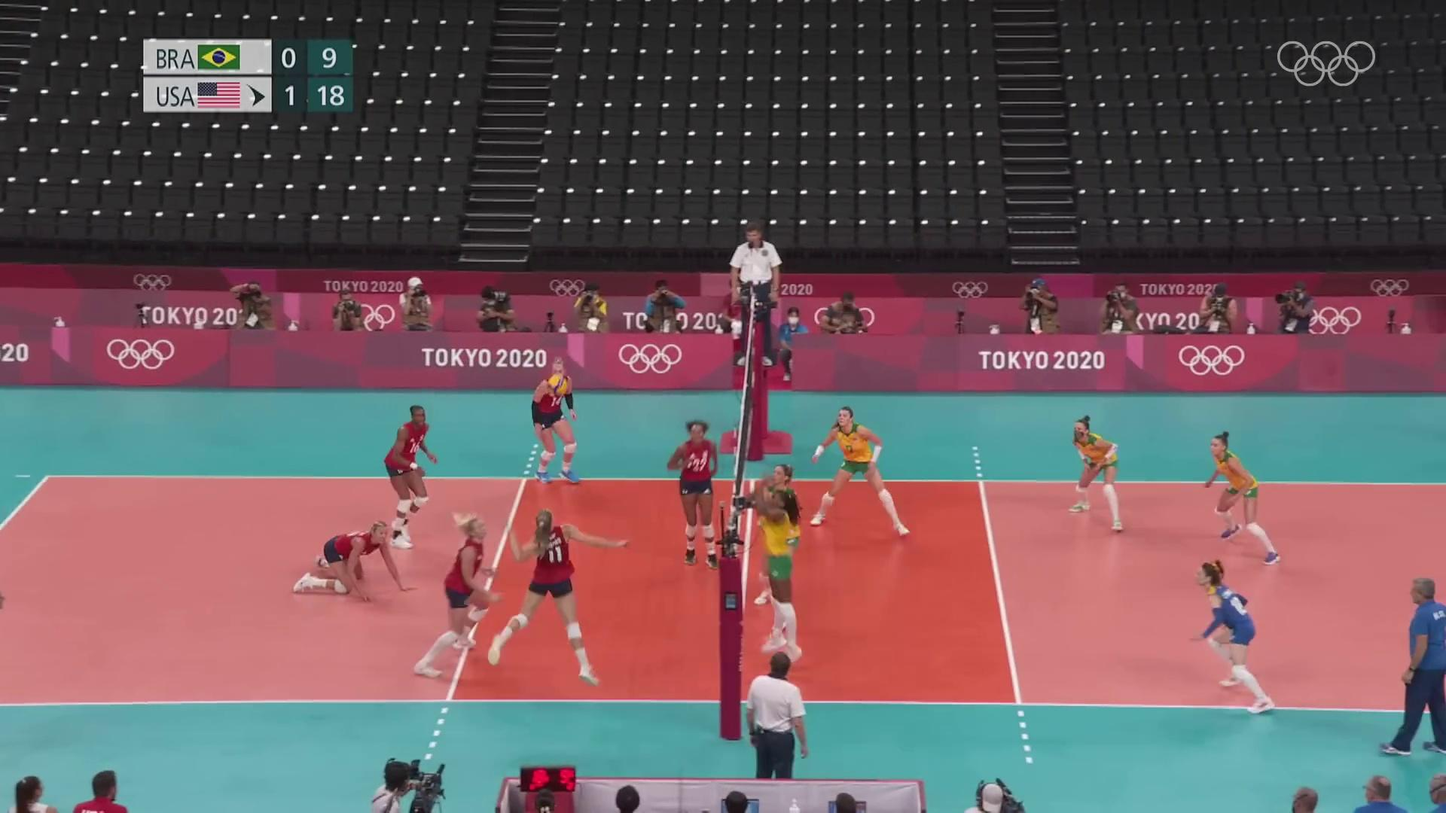player: (490, 509, 626, 683), (415, 519, 505, 678), (1189, 560, 1278, 714), (808, 406, 909, 536), (1199, 432, 1282, 565), (662, 421, 729, 565), (293, 521, 409, 598), (755, 480, 804, 662), (381, 404, 441, 549), (752, 462, 804, 619), (1065, 416, 1128, 536), (529, 358, 582, 482)
refree: (742, 648, 809, 785), (730, 221, 781, 361)
